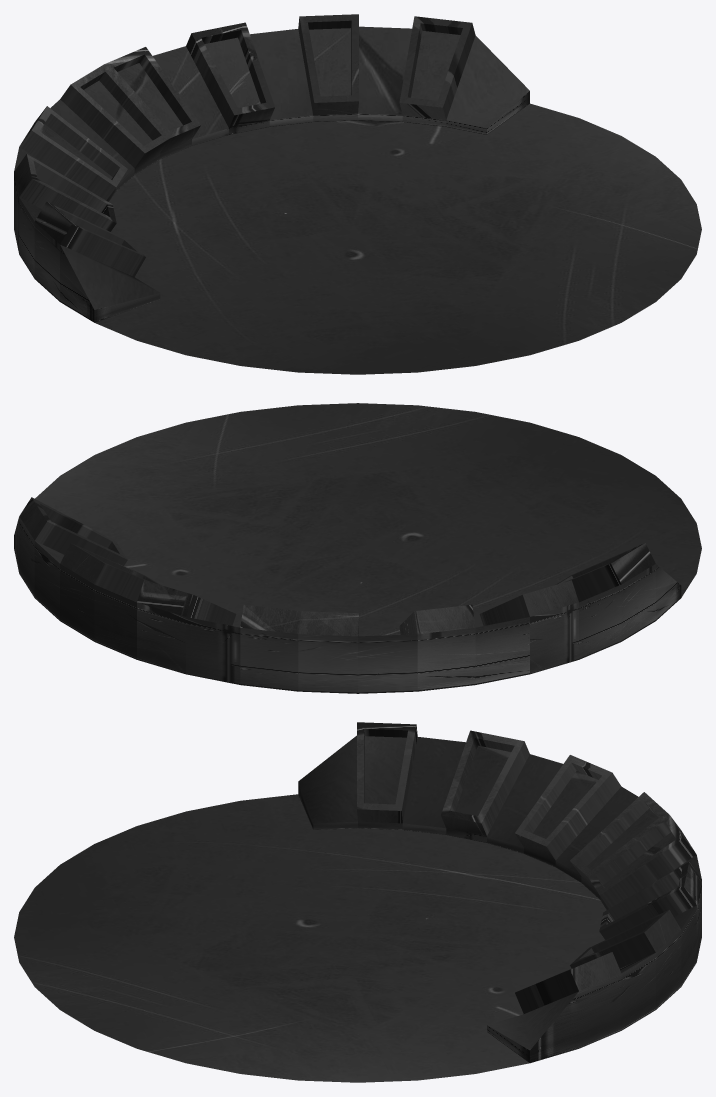
Rendered from ROBBERT_PLS_NOTICE_ME!!!!!.fbx.
3 renders of one model, top to bottom at view 1: azimuth 30°, elevation 25°; view 2: azimuth 150°, elevation 25°; view 3: azimuth 270°, elevation 25°, orthographic.
Visible parts, largest first — view 1: Disc_2; view 2: Disc_2; view 3: Disc_2.
Part boxes in pixels (x1,y1,x2,y2): Disc_2: (14,14,701,374); Disc_2: (14,403,701,693); Disc_2: (14,722,701,1082).
Bounding box in the file's own units: 203 × 24.54 × 203.
Materials: 1 (1 with a texture image).
